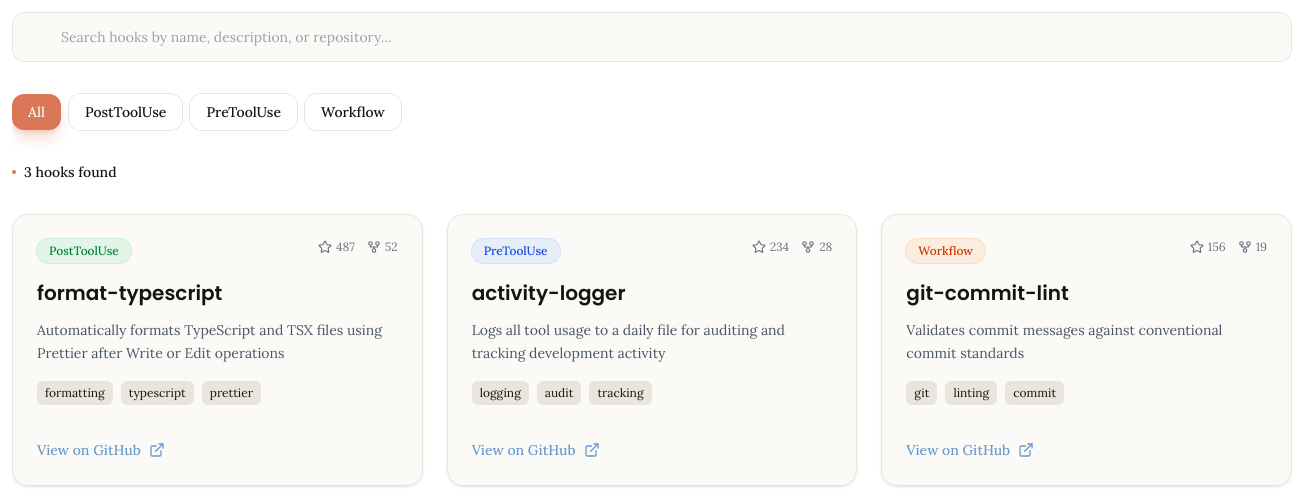
Test: HookGrid Component › filters hooks by search query in name
Type "format" into the field with placeholder "Search hooks by name, description, or repository..." at (652, 37), box x1=12 y1=12 x2=1292 y2=62
Wait 300 ms
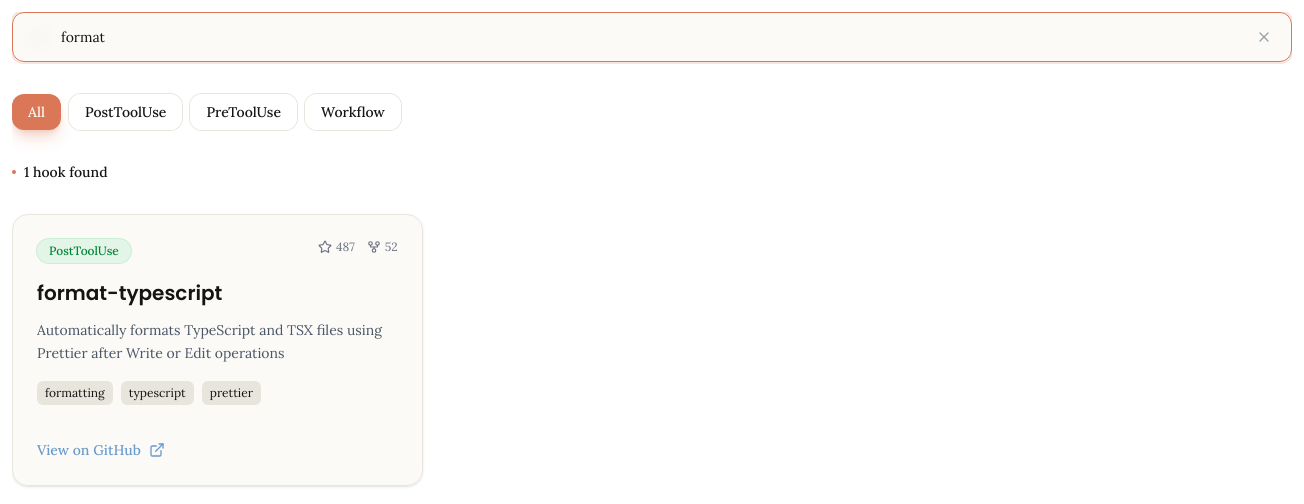
Expected: the heading "format-typescript" is shown, x1=37 y1=279 x2=222 y2=307
Expected: the heading "activity-logger" is gone
Expected: the heading "git-commit-lint" is gone
